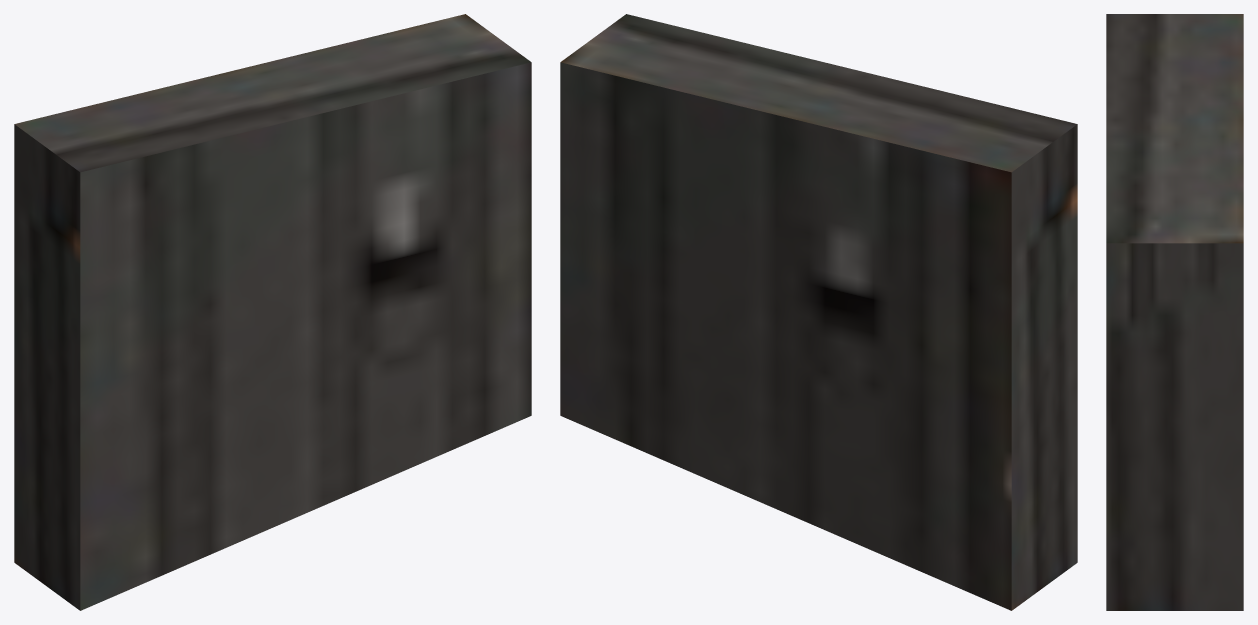
Rendered from Charger.glb.
3 views of the same model, side by side, from view 1: azimuth 30°, elevation 25°; view 2: azimuth 150°, elevation 25°; view 3: azimuth 270°, elevation 25° (orthographic). The views are drawn at different scales.
Visible parts, largest first — view 1: Charger; view 2: Charger; view 3: Charger.
Boxes of the visible parts, box(x1,y1,x2,y2) form: Charger: box(14, 14, 531, 610); Charger: box(560, 14, 1077, 610); Charger: box(1106, 14, 1243, 610).
Bounding box in the file's own units: 0.1265 × 0.1175 × 0.032.
Materials: 1 (1 with a texture image).
